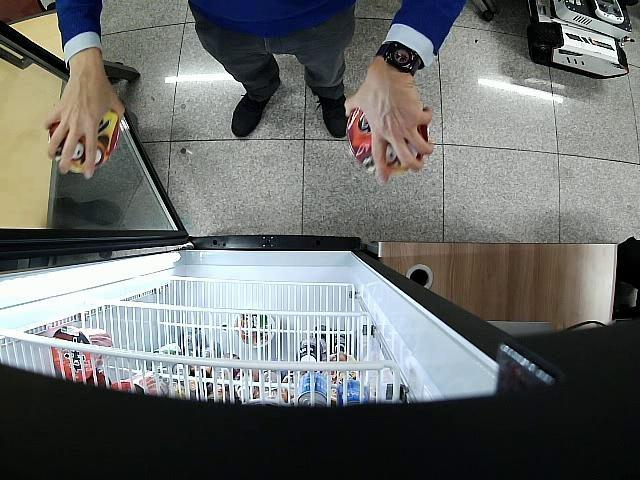05_nuguri_L: (347, 108, 429, 176), (50, 109, 120, 173)
